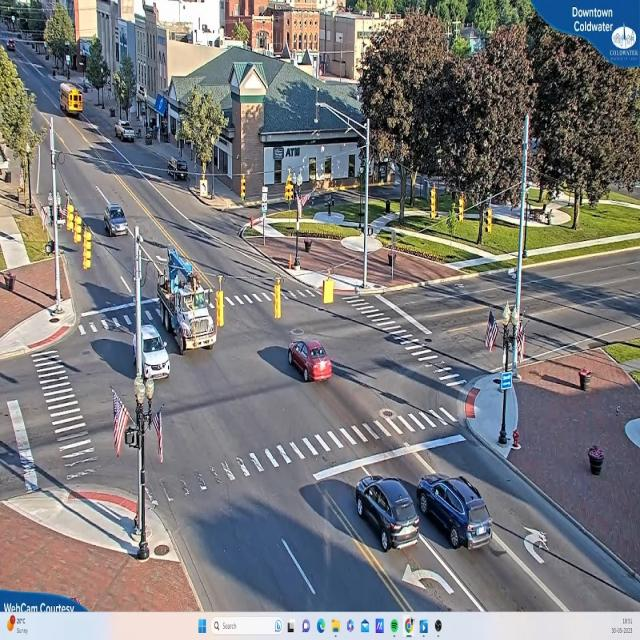car: (417, 474, 495, 549), (356, 476, 423, 549), (132, 326, 171, 388), (288, 340, 332, 383), (106, 204, 130, 238), (117, 122, 137, 144)
truck: (159, 249, 219, 359)
